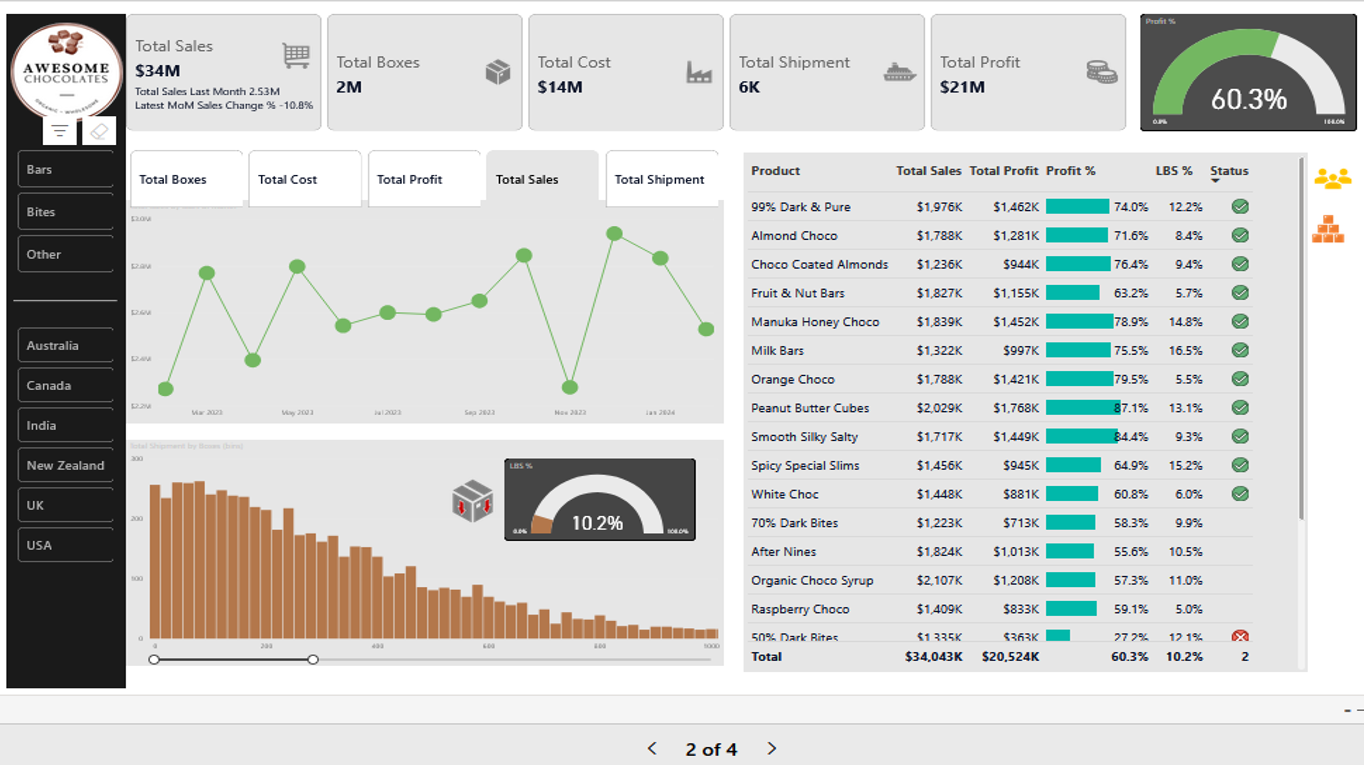

What the dashboard file says about the page in this screenshot:
{"tool":"powerbi","page":{"name":"Sales Analytic Report","canvas":[1920,1080],"ordinal":1},"visuals":[{"type":"shape","box":[0,0,170,1080],"z":0},{"type":"cardVisual","fields":{"Data":["_Measures.Total Sales","_Measures.Total Boxes","_Measures.Total Cost","_Measures.Total Shipment","_Measures.Total Profit"]},"box":[170,0,1425,187.5],"z":1000},{"type":"gauge","fields":{"Y":["_Measures.Profit %"]},"box":[1612.5,0,307.5,187.5],"z":2000},{"type":"image","box":[0,0,170,187.5],"z":3000},{"type":"lineChart","fields":{"Y":["_Measures.Total Boxes"],"Category":["calendar.Start of Month"]},"box":[170,297.5,850,357.5],"z":4000},{"type":"advancedSlicerVisual","fields":{"Values":["Measure Selectors.Measure Selectors"]},"box":[170,212.5,850,102.5],"z":5000},{"type":"columnChart","fields":{"Category":["shipments.Boxes (bins)"],"Y":["_Measures.Total Shipment"]},"box":[170,682.5,850,362.5],"z":6000},{"type":"gauge","fields":{"Y":["_Measures.LBS %"]},"box":[707.5,712.5,272.5,132.5],"z":7000},{"type":"image","box":[615,690,92.5,180],"z":8000},{"type":"tableEx","title":"People Details","fields":{"Values":["people.Picture","people.Sales person","_Measures.Total Sales","_Measures.Total Profit","_Measures.Profit %","_Measures.LBS %","_Measures.Profit target Indicator"]},"box":[1040,212.5,800,832.5],"z":9000},{"type":"image","title":"People Icon","box":[1850,182.5,70,162.5],"z":11000},{"type":"image","title":"Product Icon","box":[1835,310,85,67.5],"z":12000},{"type":"advancedSlicerVisual","fields":{"Values":["products.Category"]},"box":[10,212.5,147.5,207.5],"z":13000},{"type":"advancedSlicerVisual","fields":{"Values":["locations.Geo"]},"box":[10,495,147.5,390],"z":13001},{"type":"shape","box":[10,377.5,147.5,162.5],"z":13002}]}

Visuals, with their boxes on the page's 1920x1080 design canvas (x1, y1, x2, y2). These are canvas units, not pixel positions in the 1364x765 screenshot, which may show the page scaled, cropped or inside an application window:
shape: x1=0 y1=0 x2=170 y2=1080
cardVisual - _Measures.Total Sales x _Measures.Total Boxes: x1=170 y1=0 x2=1595 y2=188
gauge - _Measures.Profit %: x1=1612 y1=0 x2=1920 y2=188
image: x1=0 y1=0 x2=170 y2=188
lineChart - _Measures.Total Boxes x calendar.Start of Month: x1=170 y1=298 x2=1020 y2=655
advancedSlicerVisual - Measure Selectors.Measure Selectors: x1=170 y1=212 x2=1020 y2=315
columnChart - shipments.Boxes (bins) x _Measures.Total Shipment: x1=170 y1=682 x2=1020 y2=1045
gauge - _Measures.LBS %: x1=708 y1=712 x2=980 y2=845
image: x1=615 y1=690 x2=708 y2=870
"People Details" tableEx: x1=1040 y1=212 x2=1840 y2=1045
"People Icon" image: x1=1850 y1=182 x2=1920 y2=345
"Product Icon" image: x1=1835 y1=310 x2=1920 y2=378
advancedSlicerVisual - products.Category: x1=10 y1=212 x2=158 y2=420
advancedSlicerVisual - locations.Geo: x1=10 y1=495 x2=158 y2=885
shape: x1=10 y1=378 x2=158 y2=540
